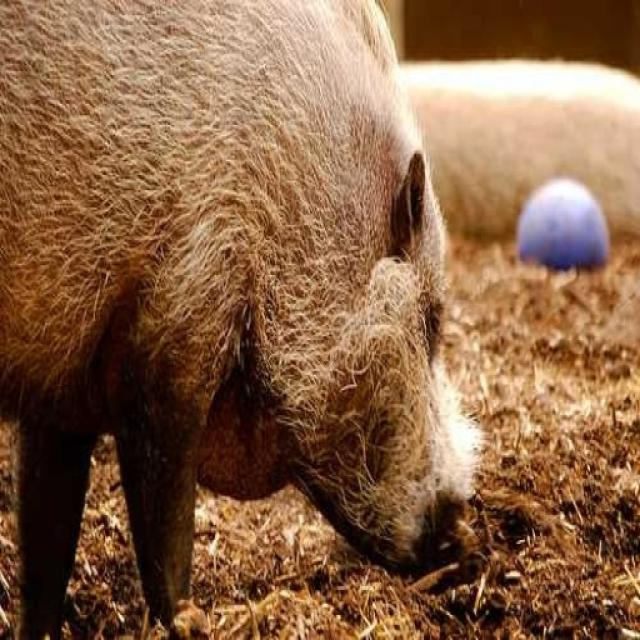pig: (8, 0, 502, 625)
